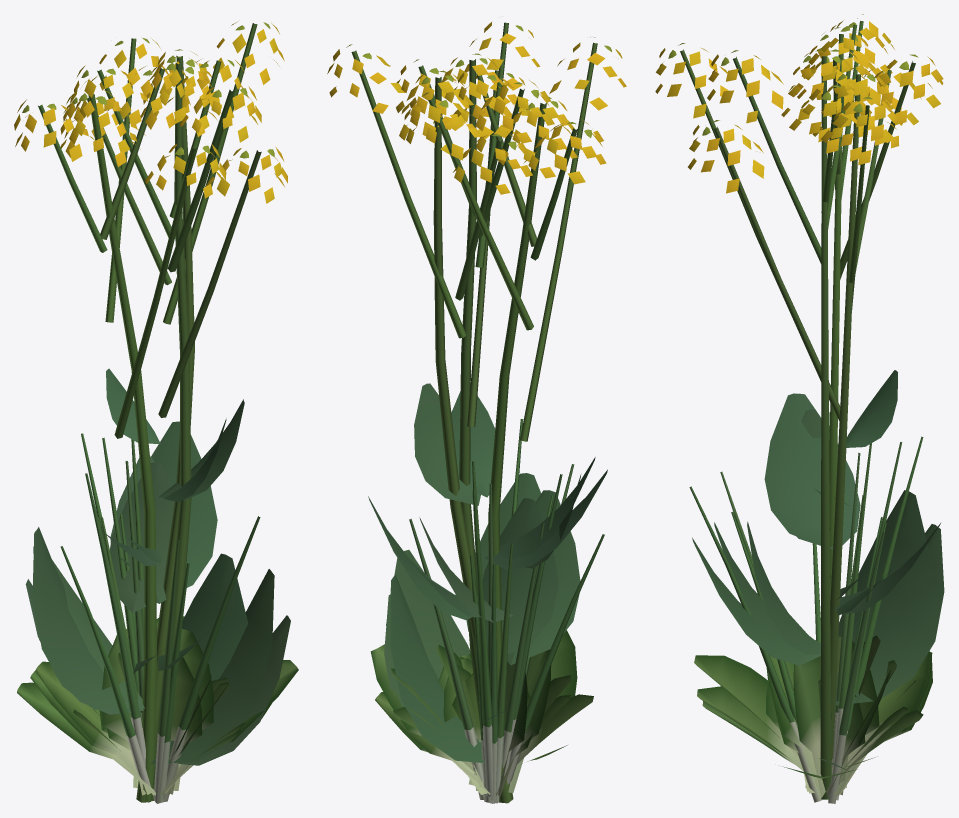
Rendered from crops.glb.
3 renders of one model, left to right at view 1: azimuth 30°, elevation 25°; view 2: azimuth 150°, elevation 25°; view 3: azimuth 270°, elevation 25°, orthographic. The views are drawn at different scales.
Visible parts, largest first — view 1: youcai_1, youcai_2, youcai_0, cong_1, cong_0, qingcai_2, qingcai_0, qingcai_1; view 2: youcai_2, youcai_1, youcai_0, cong_1, cong_0, qingcai_2, qingcai_0, qingcai_1; view 3: youcai_0, youcai_2, youcai_1, qingcai_2, cong_1, qingcai_0, cong_0, qingcai_1.
Part boxes in pixels (x1=…): youcai_1: x1=14, y1=38, x2=274, y2=802; youcai_2: x1=25, y1=22, x2=287, y2=802; youcai_0: x1=33, y1=56, x2=290, y2=800; cong_1: x1=85, y1=461, x2=260, y2=803; cong_0: x1=60, y1=433, x2=150, y2=802; qingcai_2: x1=35, y1=616, x2=298, y2=795; qingcai_0: x1=17, y1=649, x2=245, y2=795; qingcai_1: x1=30, y1=629, x2=271, y2=795; youcai_2: x1=327, y1=44, x2=607, y2=803; youcai_1: x1=386, y1=37, x2=626, y2=802; youcai_0: x1=384, y1=22, x2=595, y2=725; cong_1: x1=409, y1=419, x2=574, y2=803; cong_0: x1=470, y1=461, x2=604, y2=803; qingcai_2: x1=370, y1=630, x2=577, y2=796; qingcai_0: x1=375, y1=649, x2=570, y2=796; qingcai_1: x1=389, y1=645, x2=593, y2=795; youcai_0: x1=692, y1=18, x2=944, y2=799; youcai_2: x1=688, y1=63, x2=921, y2=759; youcai_1: x1=655, y1=14, x2=943, y2=644; qingcai_2: x1=694, y1=635, x2=929, y2=797; cong_1: x1=689, y1=412, x2=884, y2=803; qingcai_0: x1=697, y1=655, x2=932, y2=797; cong_0: x1=812, y1=436, x2=923, y2=800; qingcai_1: x1=702, y1=636, x2=932, y2=796.
Size of the model in its own units: 0.3638 by 0.9653 by 0.3328.
